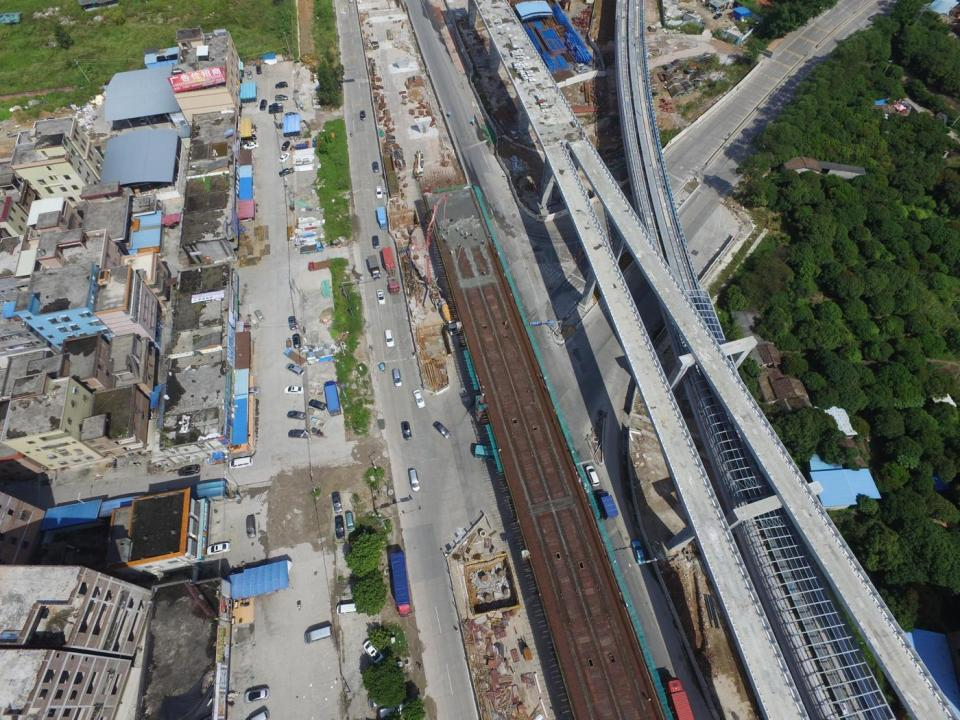bus: (475, 445, 518, 464)
car: (363, 639, 384, 664), (378, 702, 407, 718), (631, 541, 646, 564), (432, 420, 450, 439), (206, 542, 230, 555), (586, 465, 600, 487), (245, 689, 268, 702), (369, 694, 388, 708), (334, 514, 344, 540), (331, 491, 342, 514), (409, 469, 420, 492), (178, 464, 200, 475), (345, 512, 356, 533), (246, 515, 256, 538), (413, 389, 425, 408), (286, 363, 303, 376), (392, 368, 403, 388), (308, 398, 326, 410), (401, 421, 412, 440), (287, 429, 308, 438), (384, 329, 394, 347), (376, 289, 386, 306), (284, 387, 304, 394), (290, 411, 306, 419), (244, 387, 260, 395), (279, 152, 290, 163), (243, 143, 260, 150), (292, 334, 300, 348), (288, 316, 296, 330), (375, 186, 383, 199), (275, 94, 287, 102), (576, 66, 588, 74), (372, 235, 378, 249), (275, 82, 287, 89), (359, 109, 366, 120), (282, 141, 290, 150), (259, 100, 266, 110), (373, 162, 379, 172), (246, 70, 252, 79), (714, 14, 721, 20), (256, 67, 261, 74)
truck: (388, 546, 412, 616), (665, 678, 692, 720), (381, 246, 399, 295), (592, 489, 616, 524), (324, 381, 342, 416), (283, 348, 303, 366), (300, 241, 324, 255), (367, 254, 380, 279), (376, 206, 388, 229), (308, 260, 331, 272), (278, 167, 295, 178), (269, 102, 282, 110), (268, 108, 283, 114)
van: (303, 625, 332, 644), (227, 455, 254, 470), (337, 602, 361, 615), (245, 709, 269, 720), (254, 309, 265, 323), (575, 64, 585, 70)
